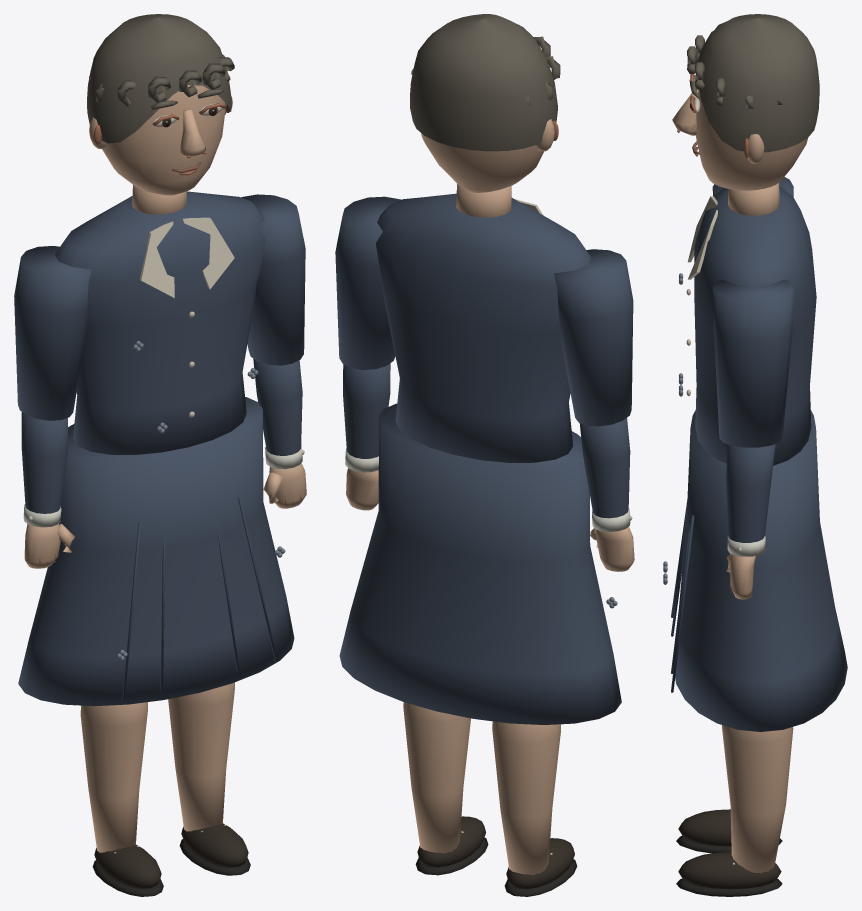
Rendered from sun.glb.
3 renders of one model, left to right at view 1: azimuth 30°, elevation 25°; view 2: azimuth 150°, elevation 25°; view 3: azimuth 270°, elevation 25°, orthographic. The views are drawn at different scales.
Visible parts, largest first — view 1: body.006_mesh, head.006_mesh, armL.006_mesh, shinL.006_mesh, shinR.006_mesh, armR.006_mesh, forearmL.006_mesh, forearmR.006_mesh; view 2: body.006_mesh, head.006_mesh, armL.006_mesh, shinL.006_mesh, shinR.006_mesh, armR.006_mesh, forearmL.006_mesh, forearmR.006_mesh; view 3: body.006_mesh, head.006_mesh, armR.006_mesh, shinR.006_mesh, forearmR.006_mesh, shinL.006_mesh.
Part boxes in pixels (box(x1,y1,x2,y2)): body.006_mesh: box(18, 185, 294, 706); head.006_mesh: box(87, 14, 234, 195); armL.006_mesh: box(14, 246, 91, 420); shinL.006_mesh: box(80, 702, 163, 896); shinR.006_mesh: box(168, 682, 250, 875); armR.006_mesh: box(241, 194, 305, 365); forearmL.006_mesh: box(21, 412, 74, 568); forearmR.006_mesh: box(253, 359, 306, 508); body.006_mesh: box(339, 184, 621, 724); head.006_mesh: box(410, 14, 560, 192); armL.006_mesh: box(554, 249, 633, 426); shinL.006_mesh: box(492, 721, 577, 896); shinR.006_mesh: box(403, 702, 488, 875); armR.006_mesh: box(335, 196, 401, 369); forearmL.006_mesh: box(579, 418, 634, 571); forearmR.006_mesh: box(343, 363, 390, 510); body.006_mesh: box(663, 183, 847, 731); head.006_mesh: box(672, 14, 819, 190); armR.006_mesh: box(712, 279, 793, 447); shinR.006_mesh: box(676, 725, 793, 896); forearmR.006_mesh: box(726, 444, 775, 599); shinL.006_mesh: box(676, 809, 782, 853).
Bounding box in the file's own units: 0.555 × 1.59 × 0.3131.
